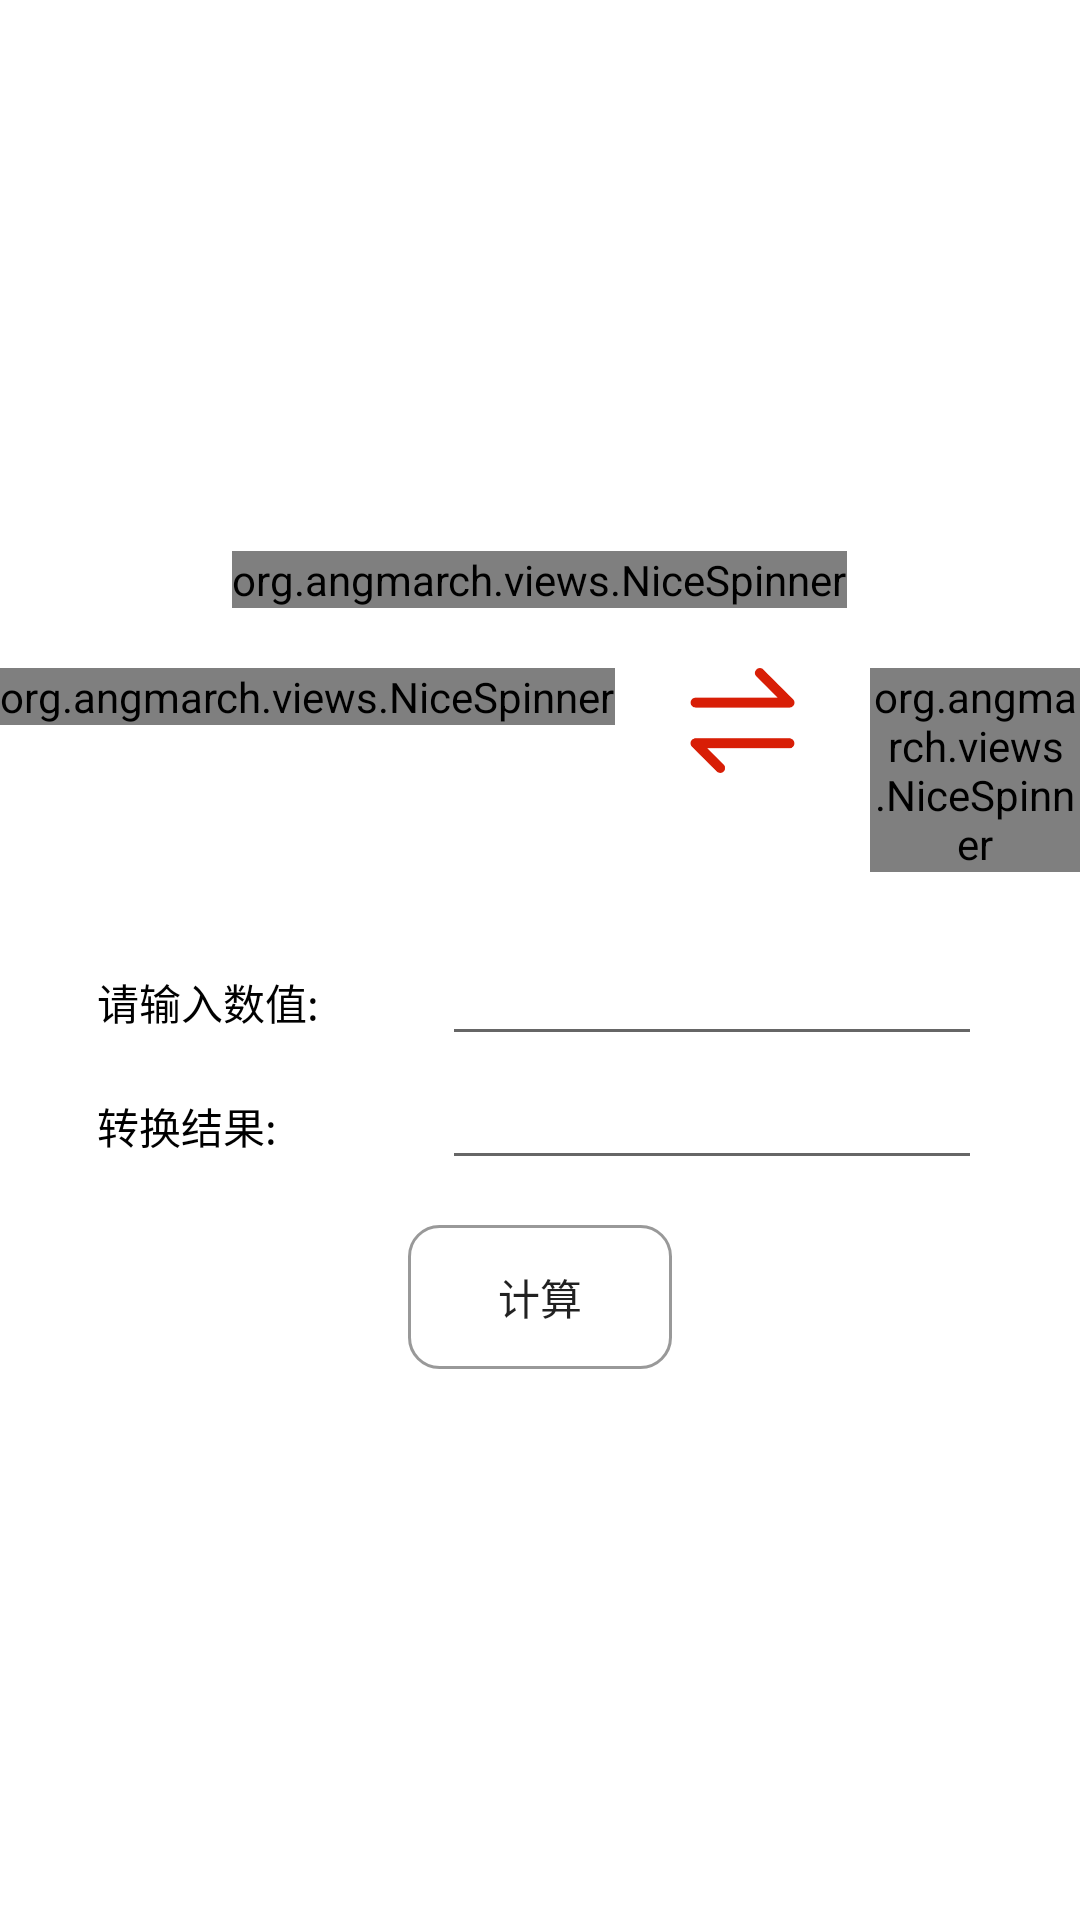

Icon click points for this 1080*1920 phone screenshot, format point (x, y):
trans: point (742, 720)
